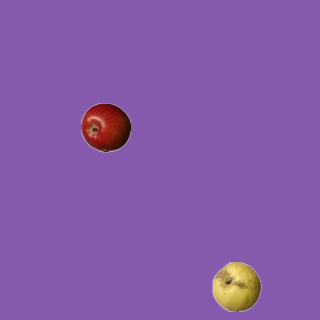Apple Braeburn: (80, 102, 130, 152)
Apple Golden 1: (211, 261, 261, 311)
